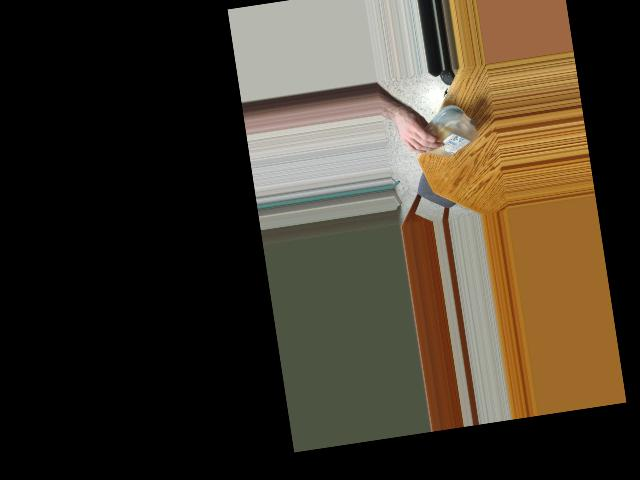cheese: (410, 103, 482, 164)
